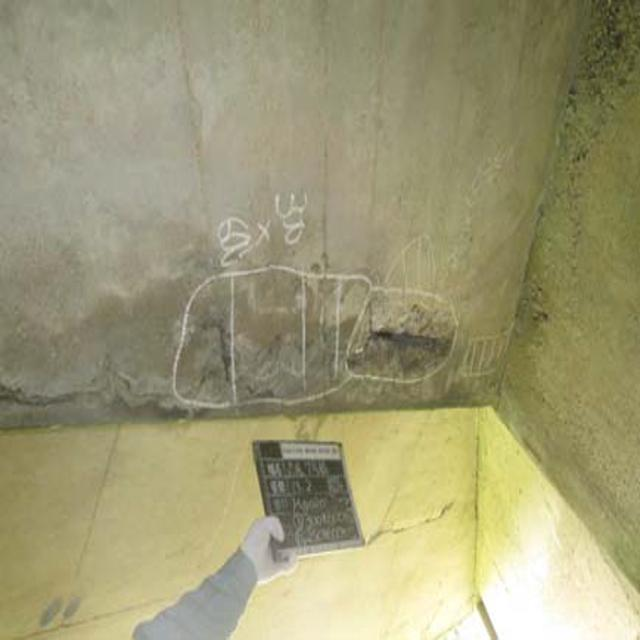spalling: (13, 273, 488, 441)
